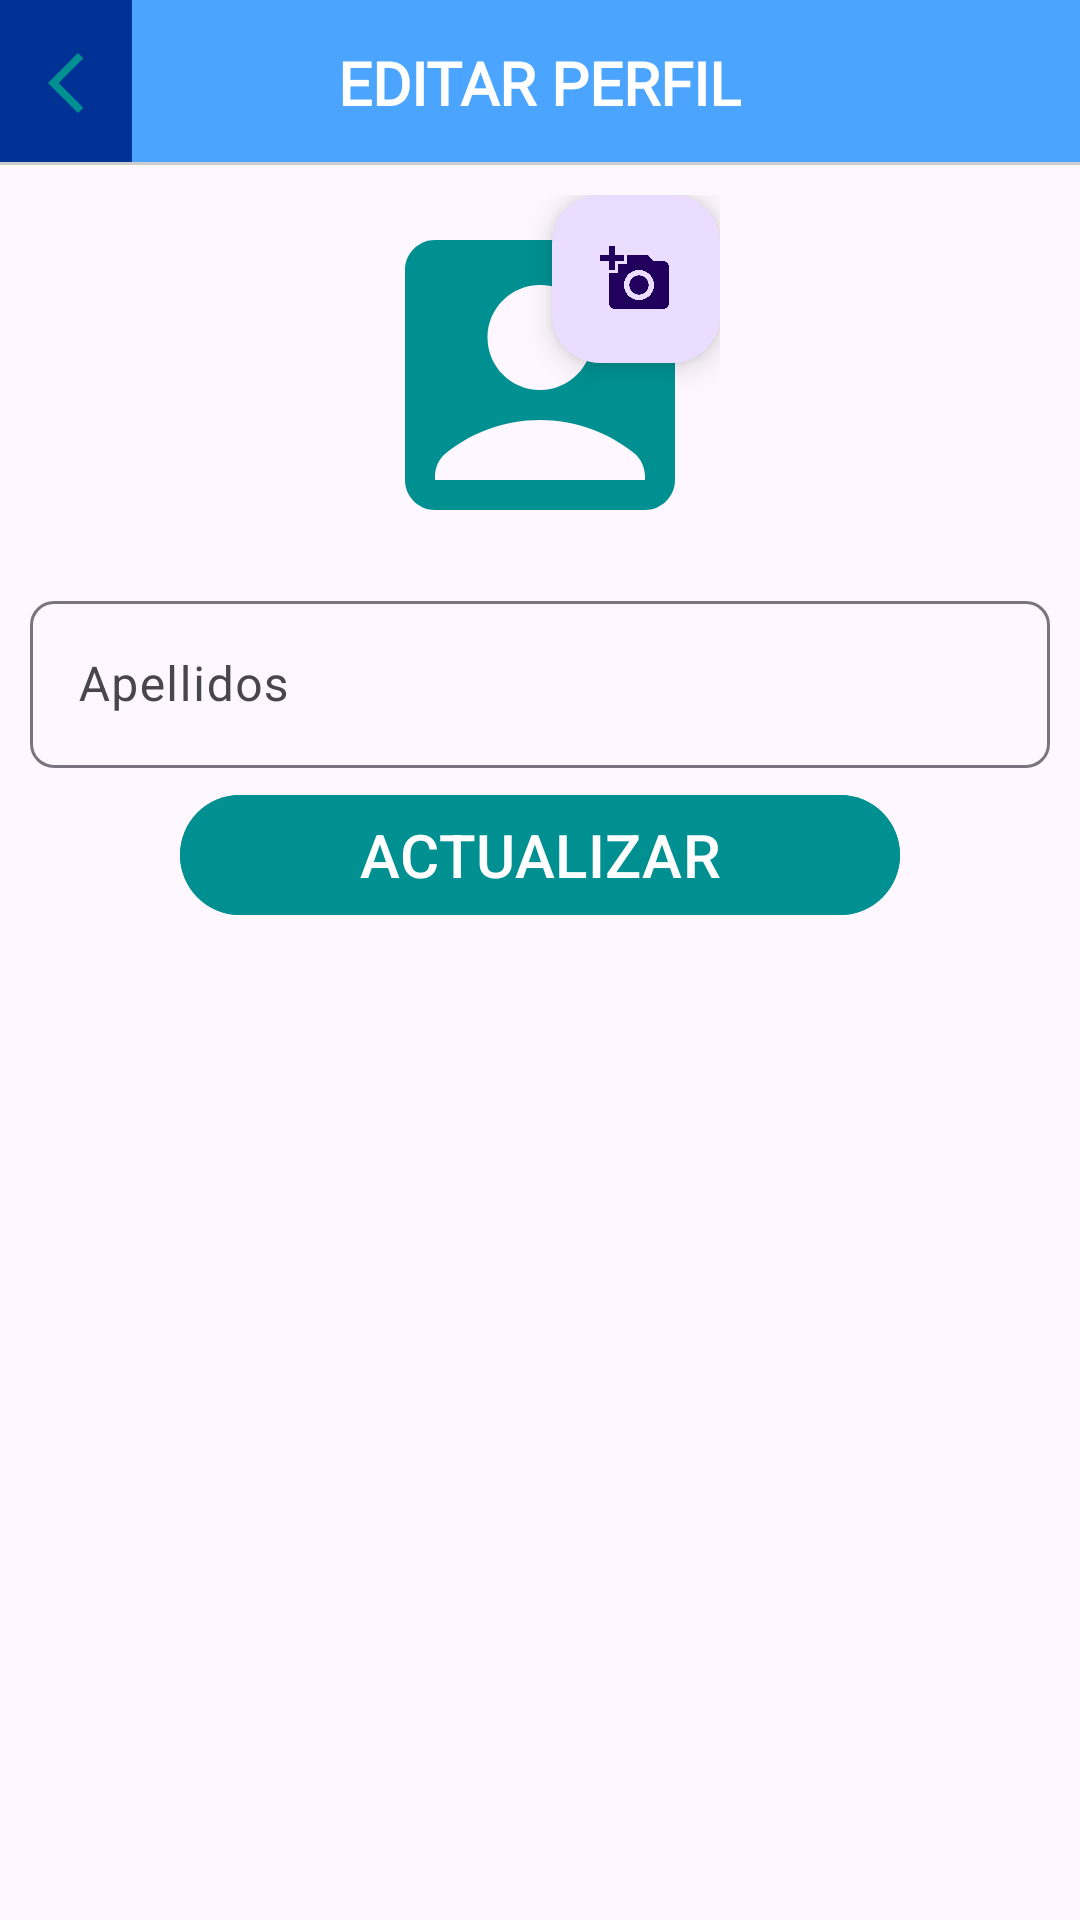

Point at icon controls on the screen. Image size 1080w x 1920h, points as [x,y].
regresar: [66,82]
